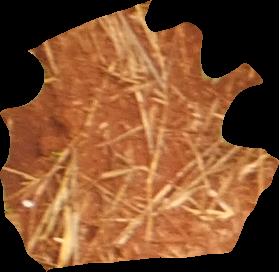soil: (4, 5, 275, 268)
